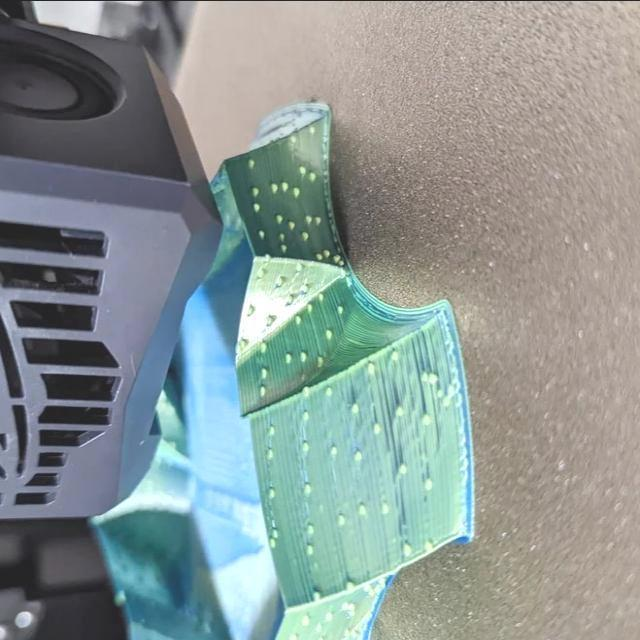blobs: (418, 363, 437, 389), (337, 599, 359, 619), (394, 458, 414, 478), (308, 586, 328, 604), (281, 348, 297, 368), (417, 410, 434, 426), (356, 497, 368, 519), (264, 486, 280, 502), (422, 474, 438, 490), (266, 525, 284, 539), (299, 382, 317, 396), (300, 404, 314, 422), (334, 299, 348, 317), (297, 348, 311, 366), (370, 418, 384, 436), (400, 537, 414, 555), (424, 537, 438, 555), (294, 160, 308, 178), (267, 178, 280, 197), (298, 438, 314, 453), (322, 383, 338, 398), (256, 380, 268, 400), (386, 346, 400, 363), (336, 507, 347, 528), (298, 612, 314, 626), (304, 522, 318, 538), (351, 446, 365, 462), (348, 398, 362, 414), (235, 335, 249, 351), (262, 312, 276, 328), (312, 290, 326, 306), (304, 170, 318, 186), (288, 131, 304, 145), (293, 310, 305, 328), (394, 400, 406, 418), (281, 292, 296, 306), (303, 540, 316, 556), (328, 440, 341, 456), (380, 499, 393, 515), (364, 358, 376, 375), (344, 575, 355, 593), (324, 608, 338, 622), (248, 183, 262, 197), (274, 227, 288, 241), (313, 620, 325, 636), (303, 300, 315, 316), (265, 422, 277, 437), (303, 211, 315, 226), (281, 237, 291, 254), (319, 245, 332, 258), (258, 365, 272, 377), (273, 272, 285, 286), (252, 229, 266, 241), (332, 251, 344, 265), (260, 337, 270, 353), (302, 482, 314, 495), (285, 219, 297, 232), (324, 326, 334, 341), (315, 354, 327, 366), (257, 266, 269, 278), (311, 251, 323, 263), (245, 302, 256, 315), (246, 152, 256, 166), (273, 211, 283, 225), (313, 211, 322, 226), (280, 178, 290, 191), (252, 199, 262, 211), (292, 184, 300, 198), (300, 227, 308, 241), (266, 448, 276, 456)
